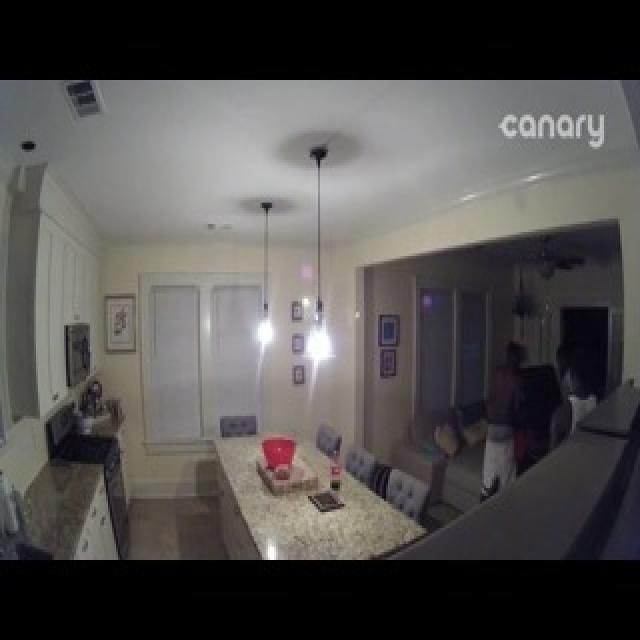thief: (474, 342, 528, 499), (546, 344, 606, 429)
